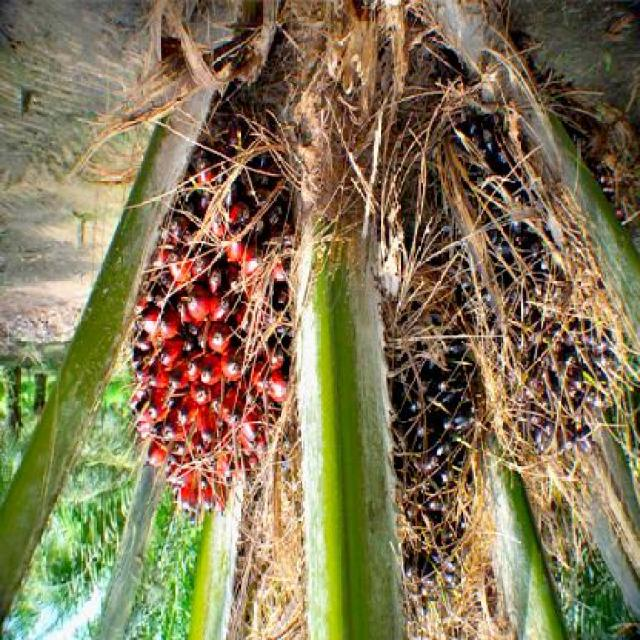palm-oil: (141, 136, 317, 507), (374, 308, 499, 627), (513, 225, 622, 443)
